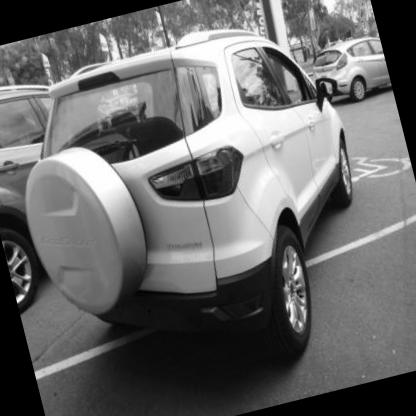car: (1, 1, 410, 397)
